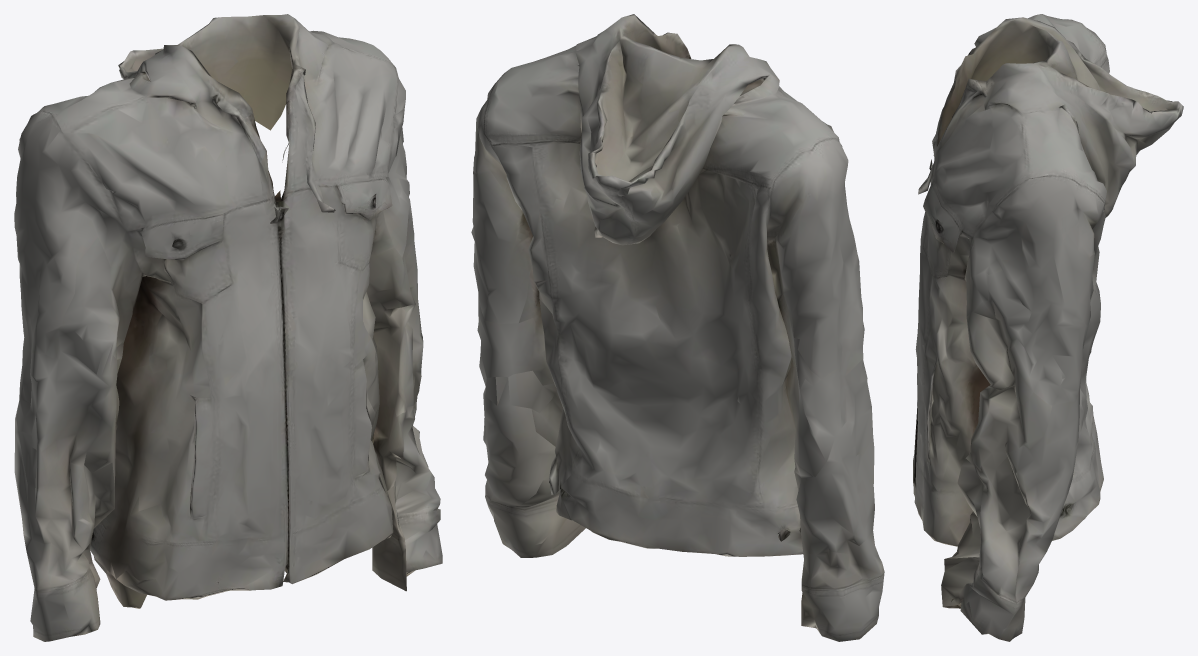
3 views of the same model, side by side, from view 1: azimuth 30°, elevation 25°; view 2: azimuth 150°, elevation 25°; view 3: azimuth 270°, elevation 25° (orthographic). The views are drawn at different scales.
Visible parts, largest first — view 1: tripo_node_4ff4c618-9553-46bd-989e-f265c46b2b77; view 2: tripo_node_4ff4c618-9553-46bd-989e-f265c46b2b77; view 3: tripo_node_4ff4c618-9553-46bd-989e-f265c46b2b77.
Part boxes in pixels (x1,y1,x2,y2): tripo_node_4ff4c618-9553-46bd-989e-f265c46b2b77: (14, 14, 442, 641); tripo_node_4ff4c618-9553-46bd-989e-f265c46b2b77: (471, 14, 884, 641); tripo_node_4ff4c618-9553-46bd-989e-f265c46b2b77: (913, 14, 1183, 641).
Bounding box in the file's own units: 0.5688 × 0.7755 × 0.363.
1 material, 1 textured.
